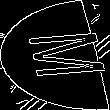M_E: (6, 29, 104, 81)
